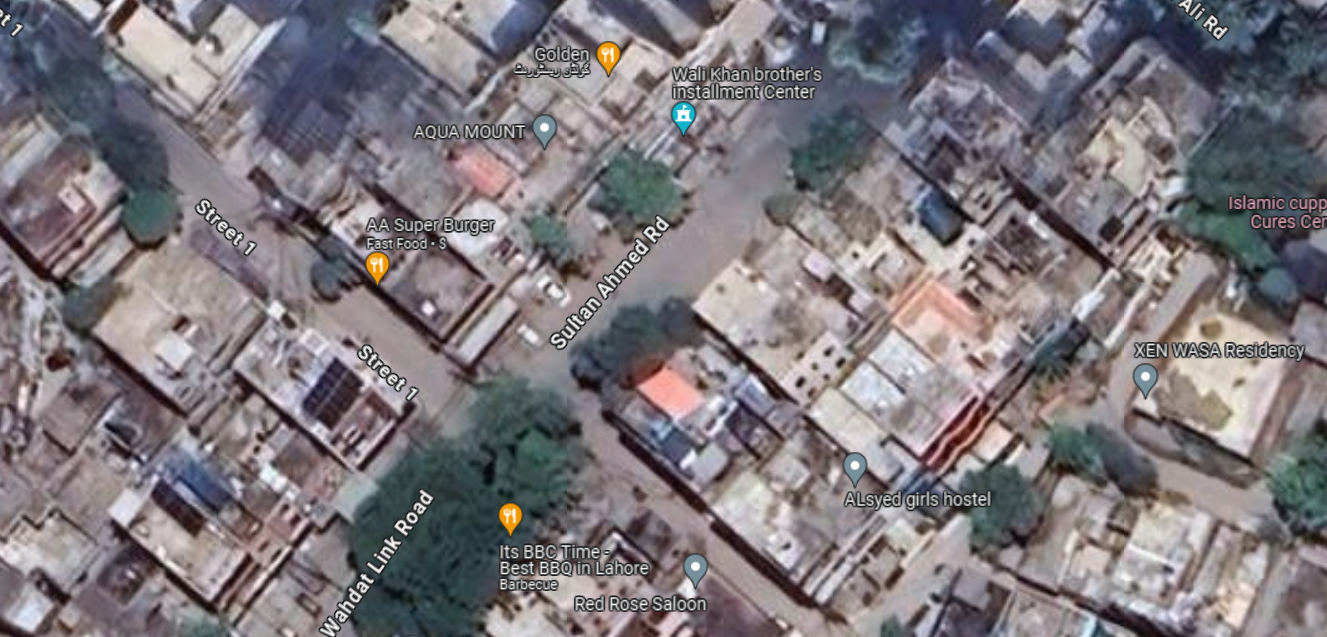solar-panel: (265, 71, 366, 165), (166, 464, 246, 528), (307, 356, 357, 421)
